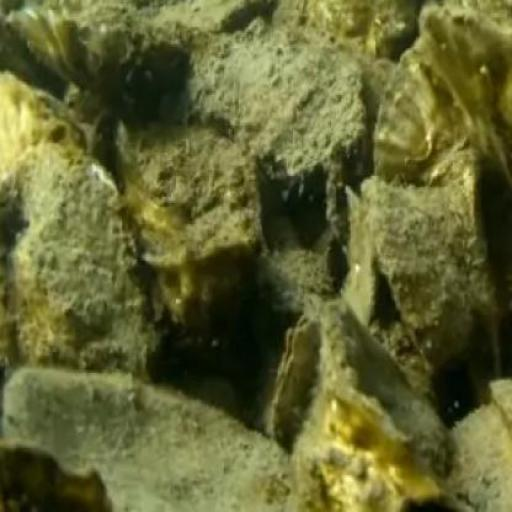Oyster-Closed: (367, 167, 512, 375), (419, 9, 512, 174), (19, 26, 194, 109), (379, 40, 467, 182), (268, 310, 326, 456)
